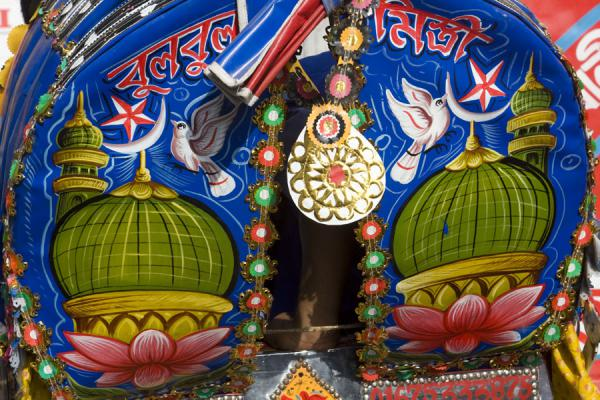Rickshaw: (15, 5, 578, 398)
